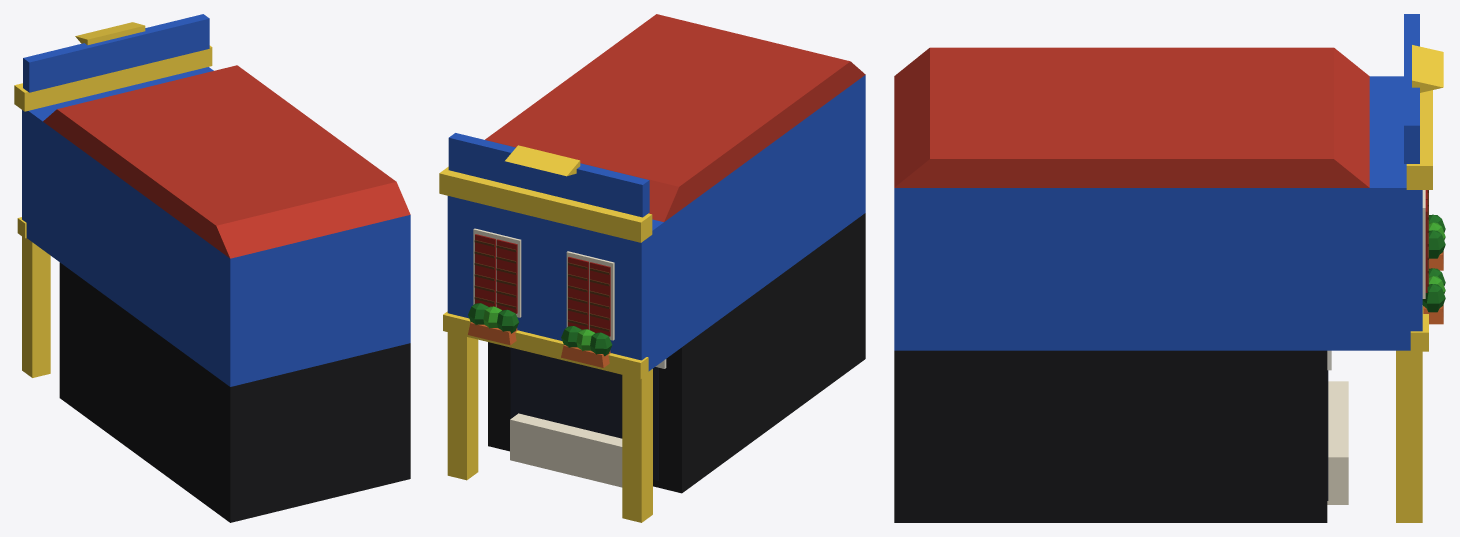
Rendered from env_chowkit_shop_d.fbx.
3 views of the same model, side by side, from view 1: azimuth 30°, elevation 25°; view 2: azimuth 150°, elevation 25°; view 3: azimuth 270°, elevation 25° (orthographic). The views are drawn at different scales.
Parts seen in each view (by area): view 1: env_chowkit_shop_d_geo_LOD0, COL_env_chowkit_shop_d; view 2: env_chowkit_shop_d_geo_LOD0, COL_env_chowkit_shop_d; view 3: env_chowkit_shop_d_geo_LOD0, COL_env_chowkit_shop_d.
Boxes of the visible parts, <box> form: env_chowkit_shop_d_geo_LOD0: <box>14,14,410,386</box>; COL_env_chowkit_shop_d: <box>59,262,410,522</box>; env_chowkit_shop_d_geo_LOD0: <box>439,14,865,522</box>; COL_env_chowkit_shop_d: <box>488,213,865,493</box>; env_chowkit_shop_d_geo_LOD0: <box>894,14,1445,522</box>; COL_env_chowkit_shop_d: <box>894,350,1327,522</box>.
Size of what is drawn, in the model's own units: 5.2 by 8.45 by 10.44.
